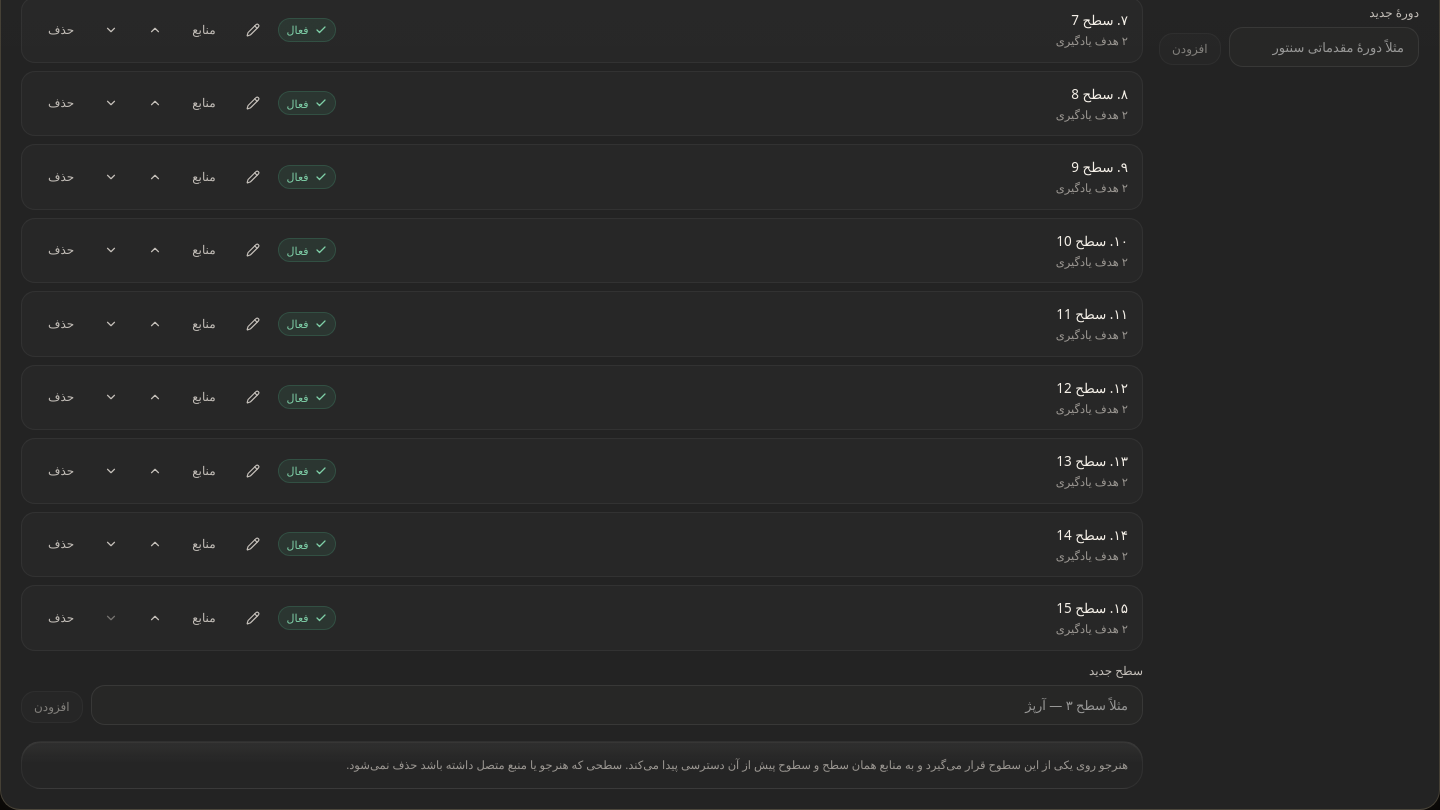
it: levels › deletes an empty level that was just added
The image size is (1440, 810).
(page scrolled)
In the field labelled "سطح جدید": (617, 705) [91,685,1143,725], type "سطح موقت"
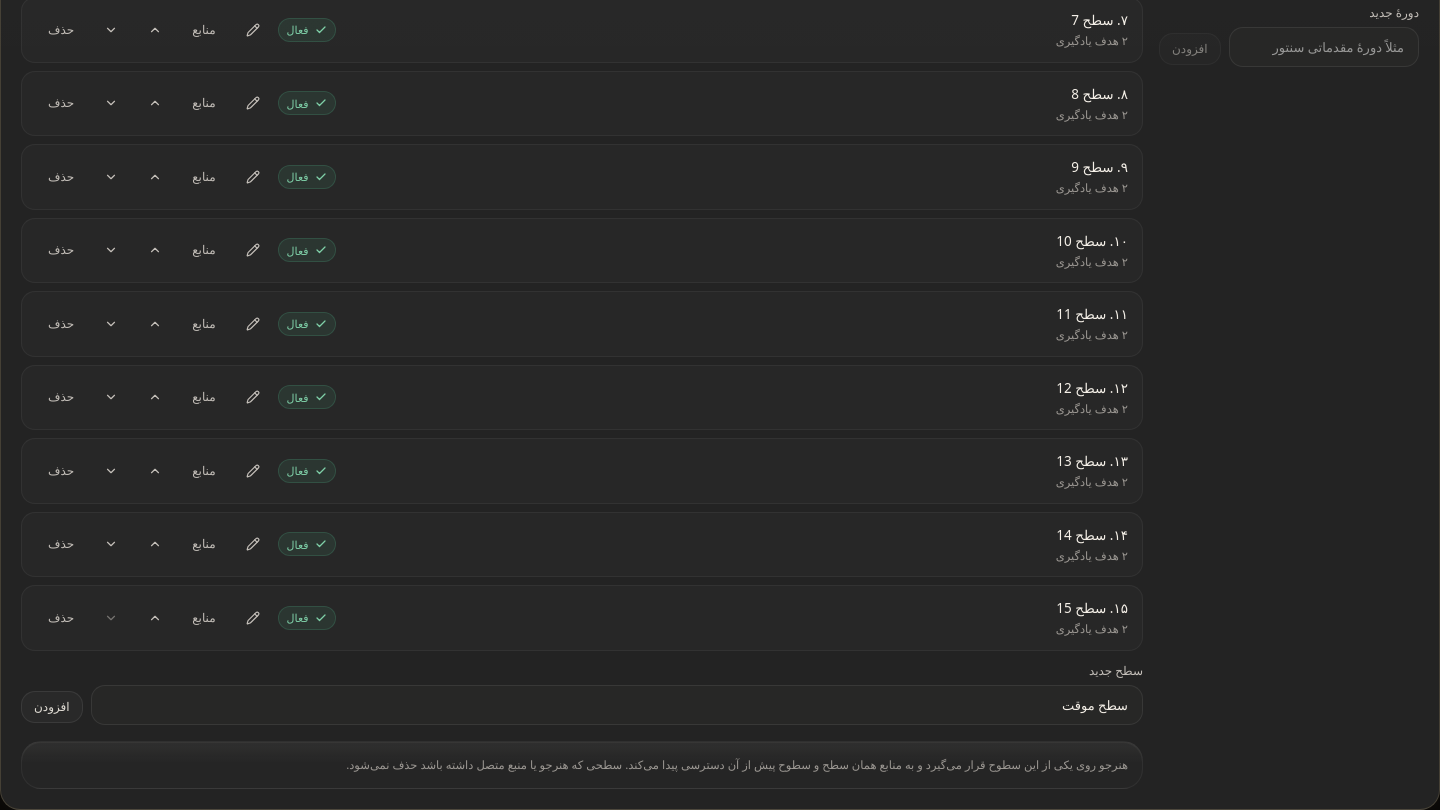
Click the 2nd button "افزودن": (52, 707) [21,691,83,723]
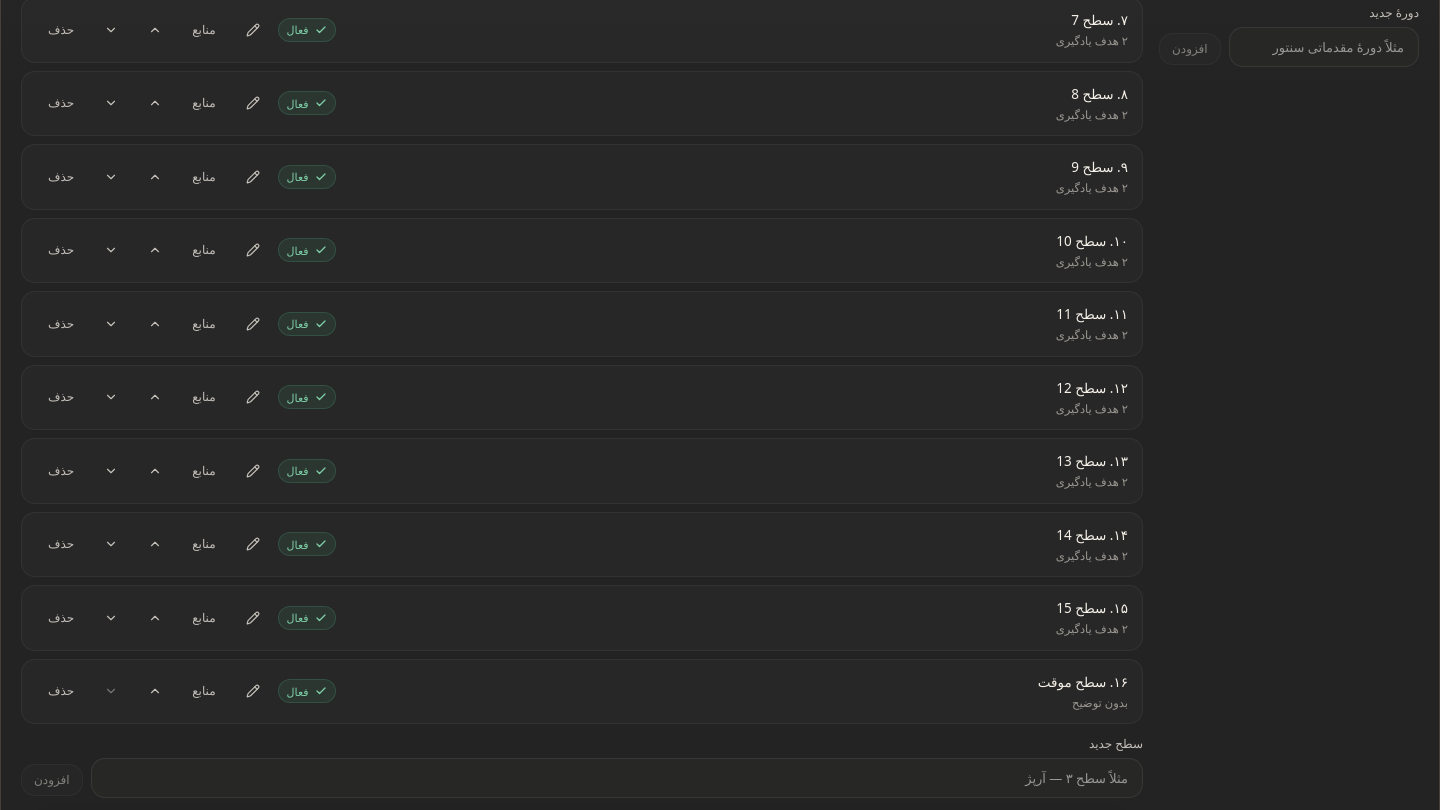
Check: the list item "۱۶. سطح موقت بدون توضیح فعال منابع حذف" is shown, box [21,659,1143,724]
Click the button "حذف" in the row of "۱۶. سطح موقت": (61, 691) [36,675,86,707]
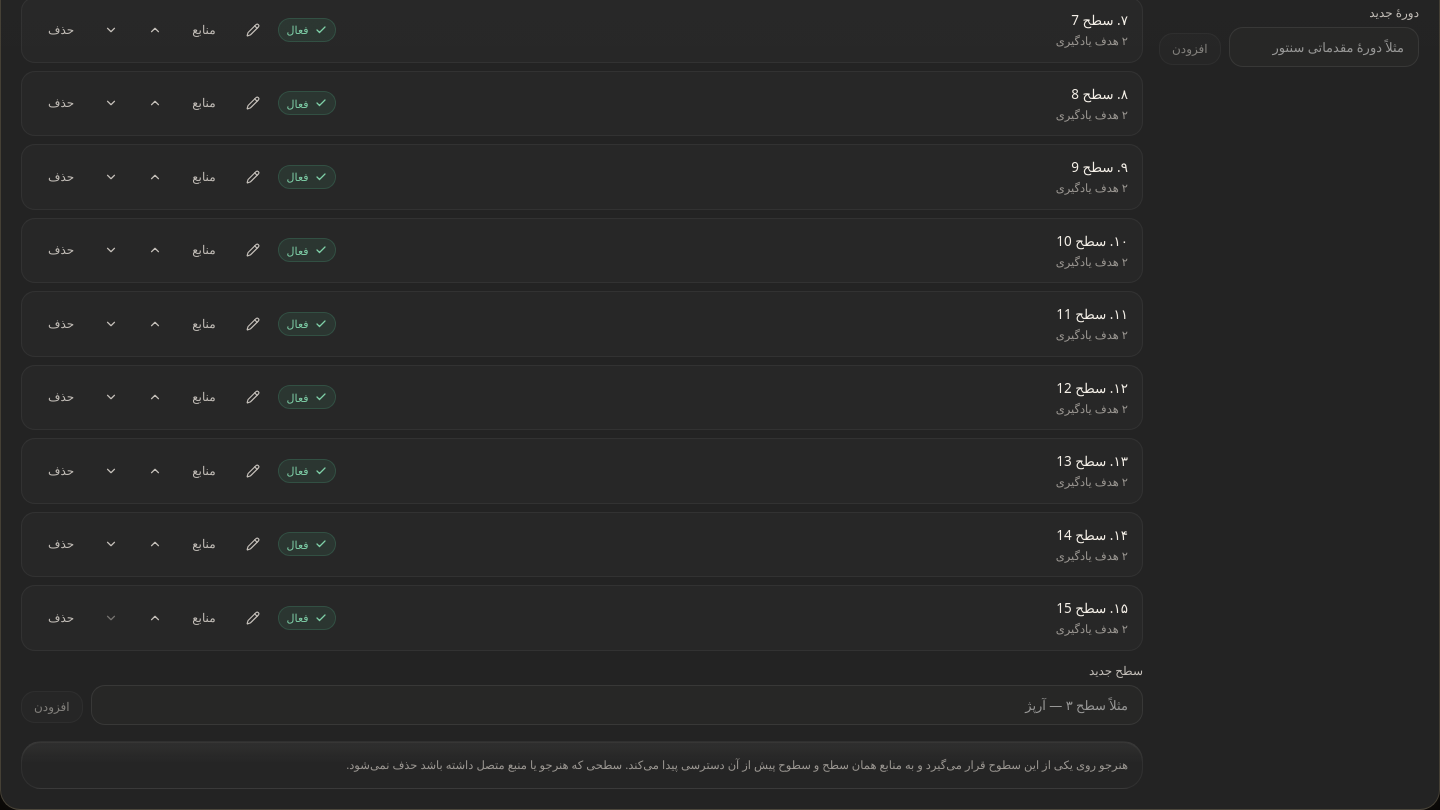
Check: the text "سطح موقت" is gone
